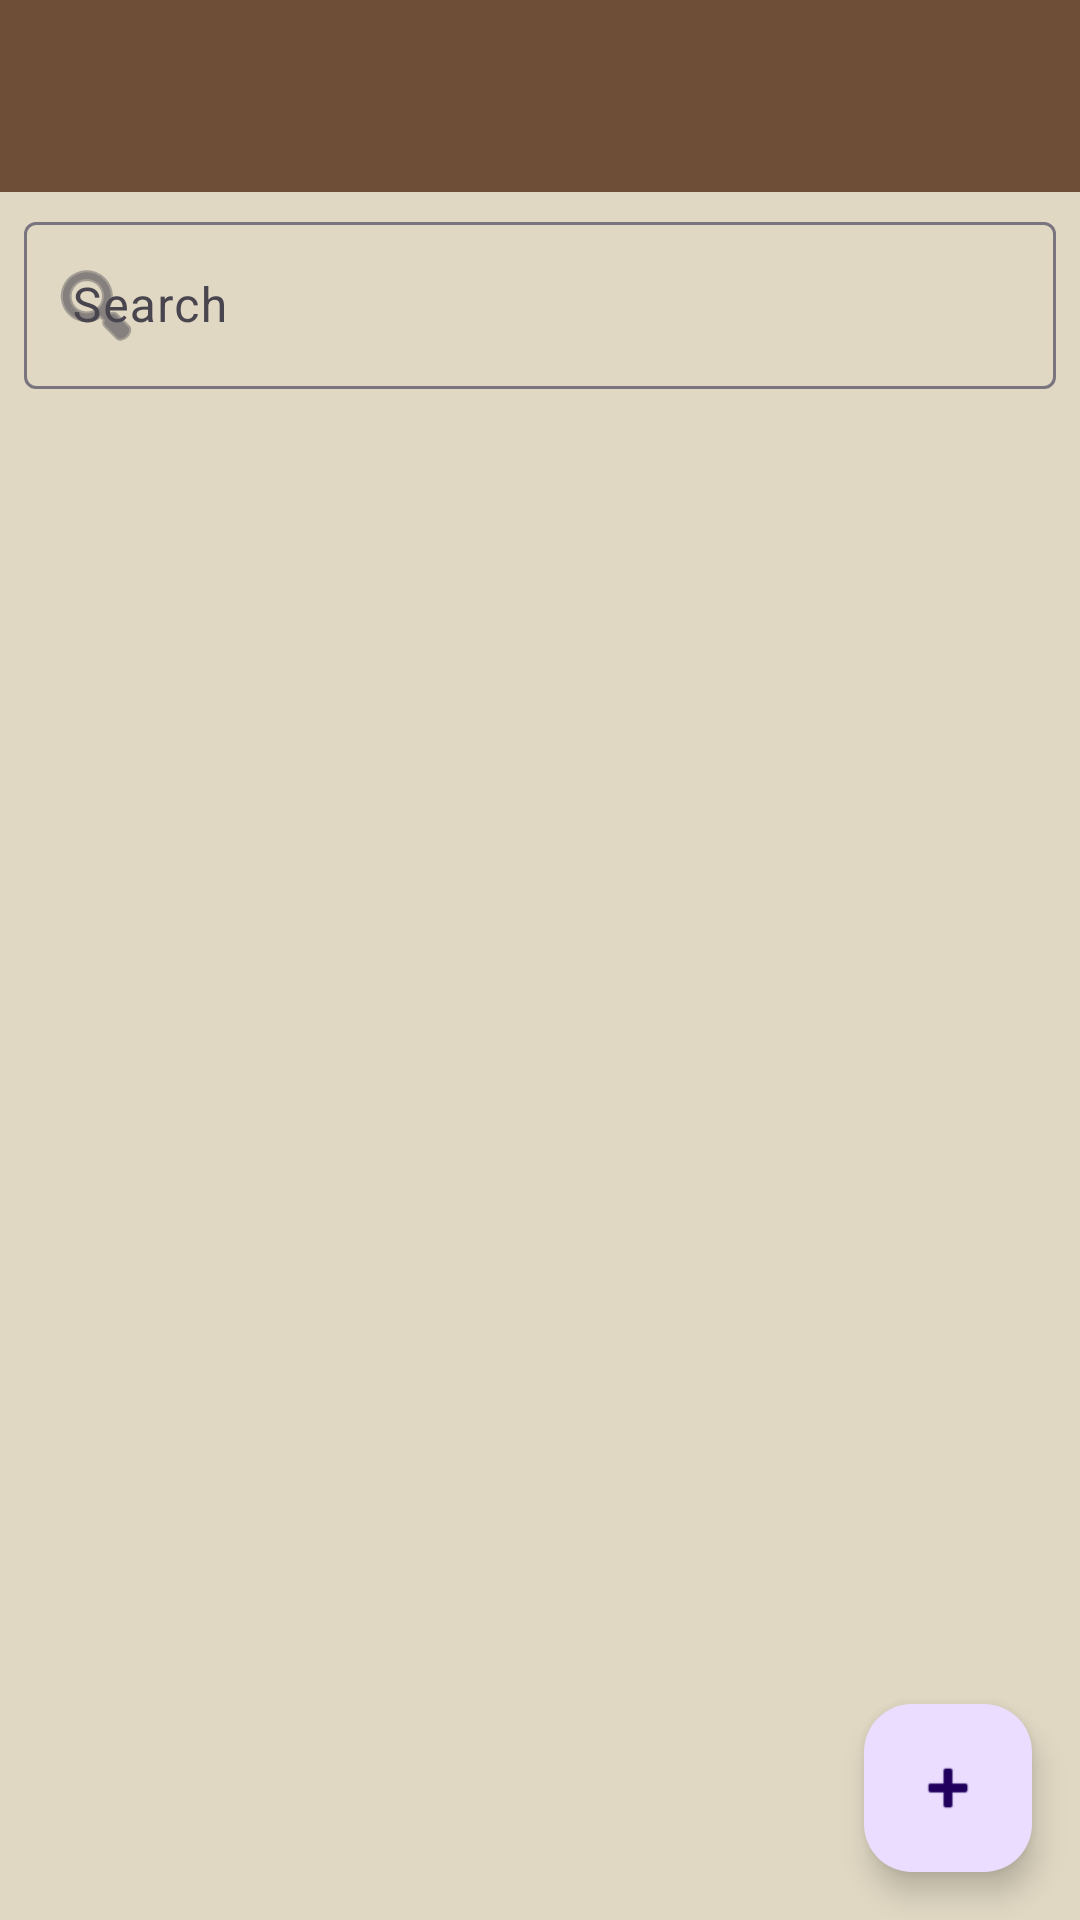

Icons on this 1080w x 1920h Android screen, each with its box as (x1, y1, x2, y2):
Add Product: (864, 1704, 1032, 1872)
